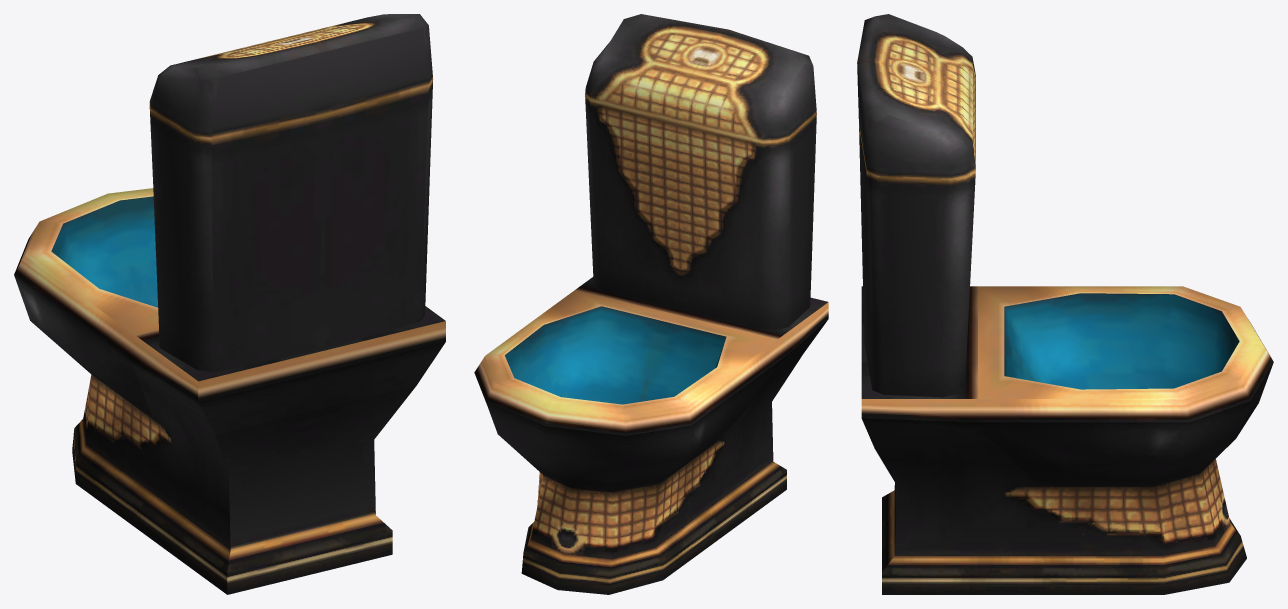
Rendered from furni_0201215_01.FBX.
3 views of the same model, side by side, from view 1: azimuth 30°, elevation 25°; view 2: azimuth 150°, elevation 25°; view 3: azimuth 270°, elevation 25° (orthographic). The views are drawn at different scales.
Visible parts, largest first — view 1: furni_0201215_01; view 2: furni_0201215_01; view 3: furni_0201215_01.
Part boxes in pixels (<box>): furni_0201215_01: <box>14,14,445,594</box>; furni_0201215_01: <box>474,14,828,594</box>; furni_0201215_01: <box>857,14,1273,594</box>.
Bounding box in the file's own units: 56.26 × 109 × 82.06.
